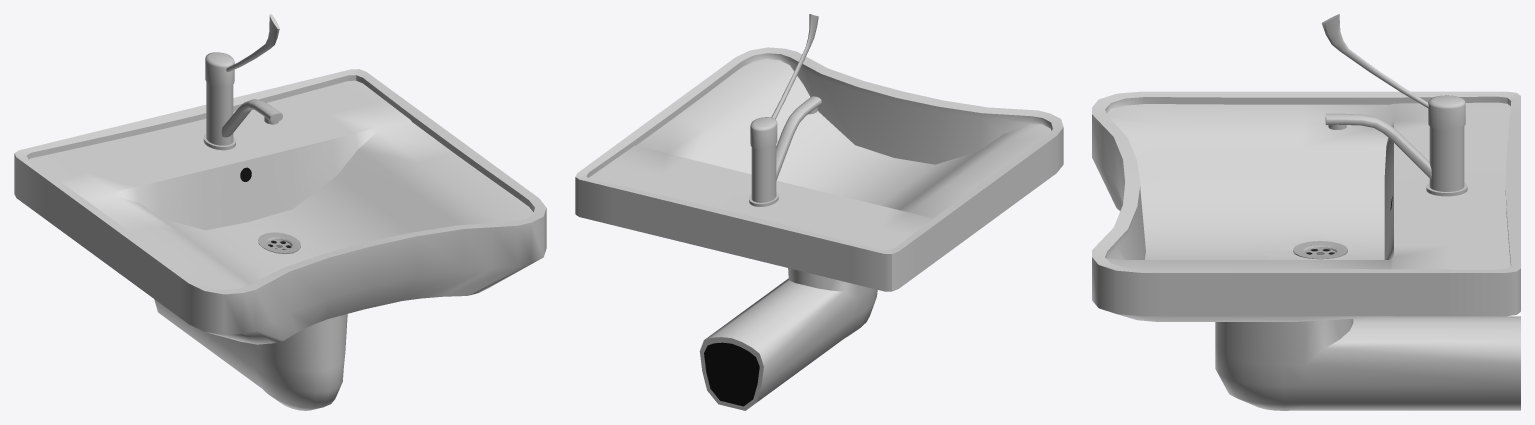
The model's file is sh-scopia-ergonomic-washbasin.glb.
3 renders of one model, left to right at view 1: azimuth 30°, elevation 25°; view 2: azimuth 150°, elevation 25°; view 3: azimuth 270°, elevation 25°, orthographic. The views are drawn at different scales.
Parts seen in each view (by area): view 1: Washbasin, Cylinder, Tap; view 2: Washbasin, Cylinder, Pipe; view 3: Washbasin, Cylinder, Tap.
Boxes of the visible parts, x1,y1,x2,y2 form: Washbasin: [14, 69, 546, 410]; Cylinder: [203, 14, 282, 150]; Tap: [258, 232, 300, 253]; Washbasin: [575, 47, 1063, 410]; Cylinder: [749, 14, 821, 206]; Pipe: [704, 342, 759, 406]; Washbasin: [1092, 91, 1520, 410]; Cylinder: [1321, 14, 1467, 196]; Tap: [1293, 241, 1347, 259].
Bounding box in the file's own units: 1 × 1 × 1.
4 materials, 1 textured.
